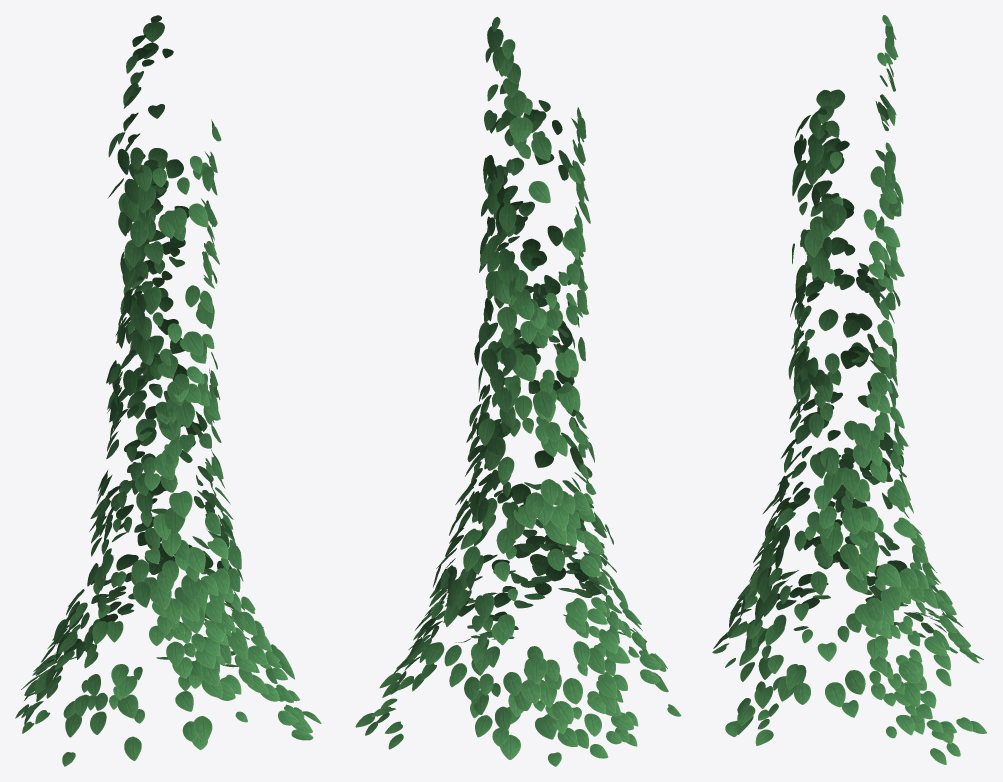
File: ivy_pillar1.fbx
3 views of the same model, side by side, from view 1: azimuth 30°, elevation 25°; view 2: azimuth 150°, elevation 25°; view 3: azimuth 270°, elevation 25° (orthographic). The views are drawn at different scales.
Visible parts, largest first — view 1: iveLeaf_2.042; view 2: iveLeaf_2.042; view 3: iveLeaf_2.042.
Part boxes in pixels (x1,y1,x2,y2): iveLeaf_2.042: (15, 15, 321, 766); iveLeaf_2.042: (355, 17, 681, 766); iveLeaf_2.042: (712, 15, 986, 764).
Bounding box in the file's own units: 557 × 1512 × 543.
